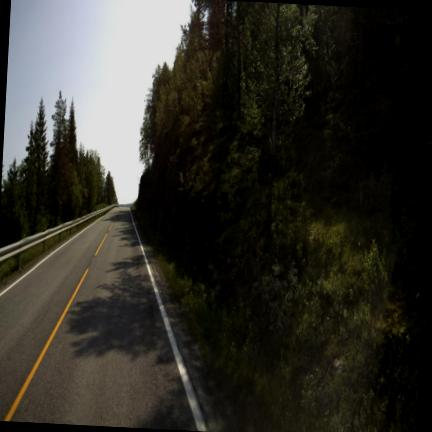Road: (0, 208, 197, 429)
